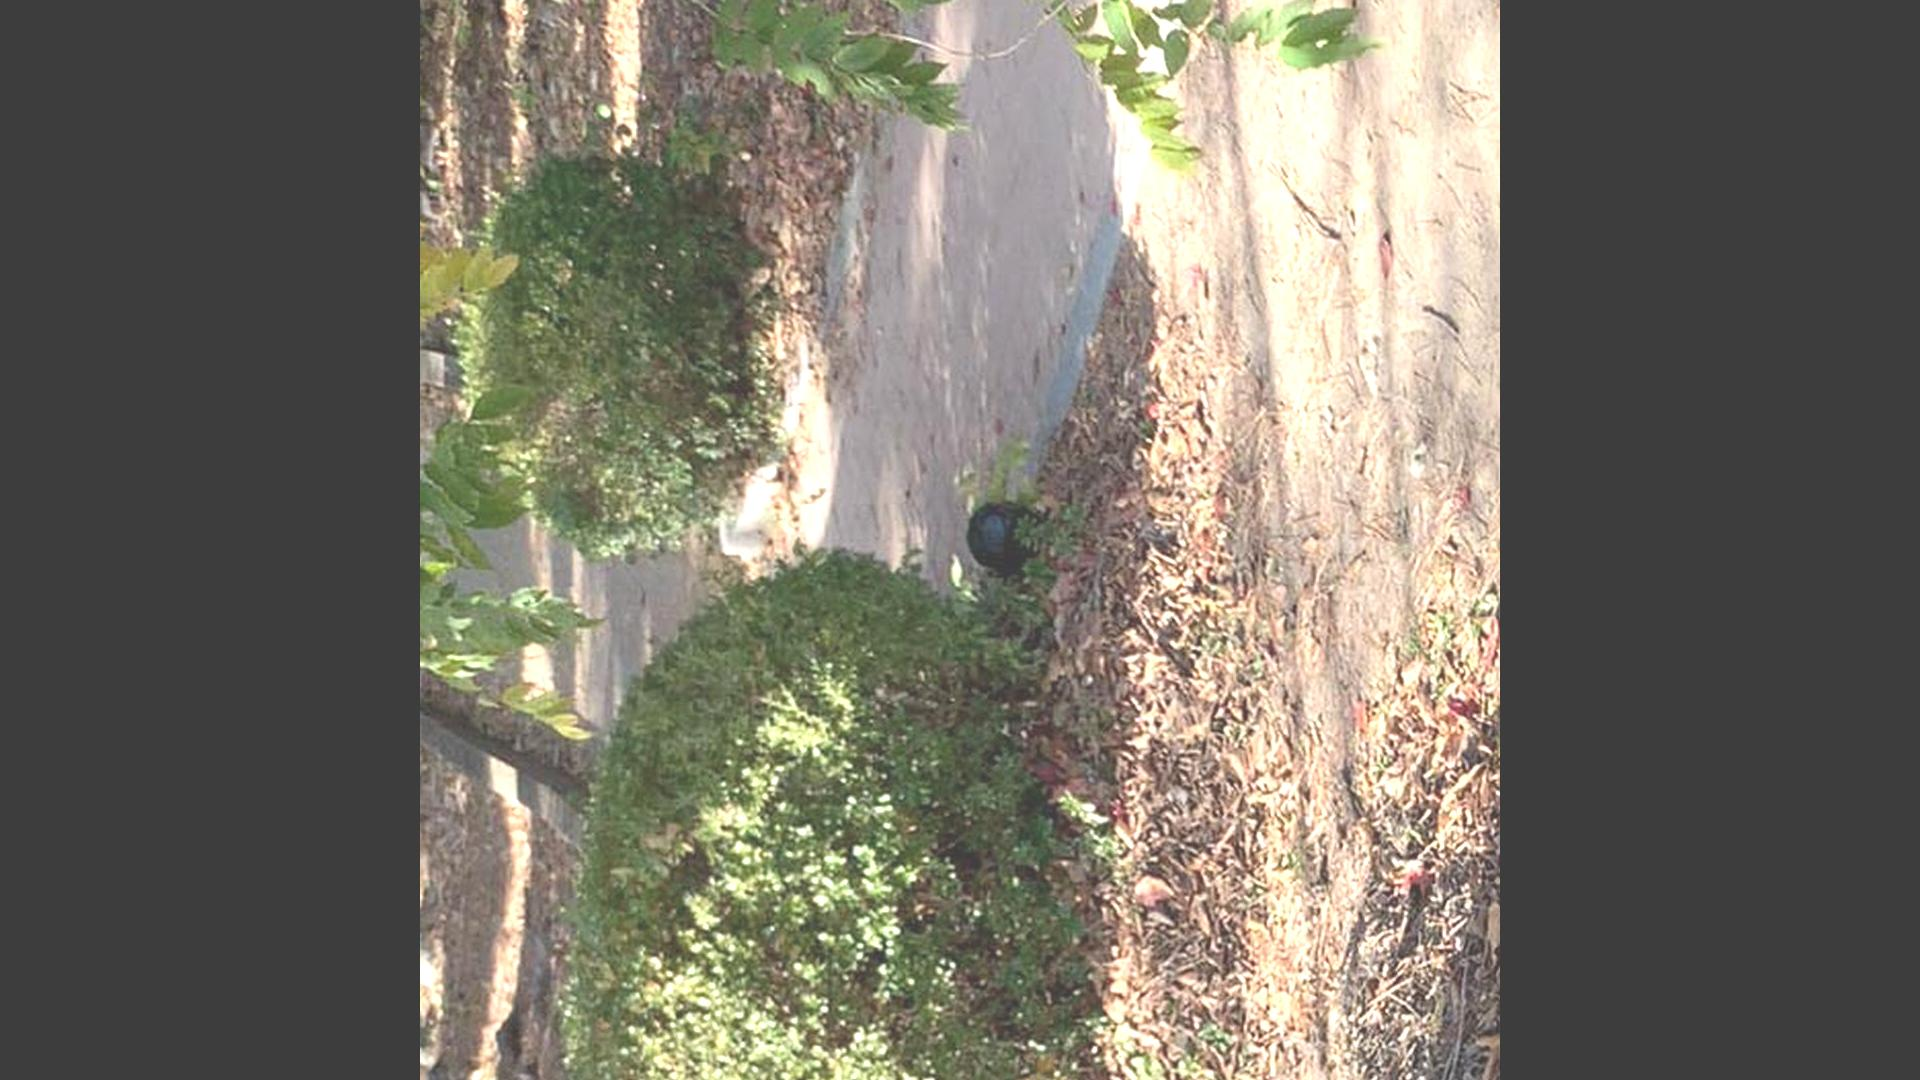black_bag: (956, 496, 1046, 585)
